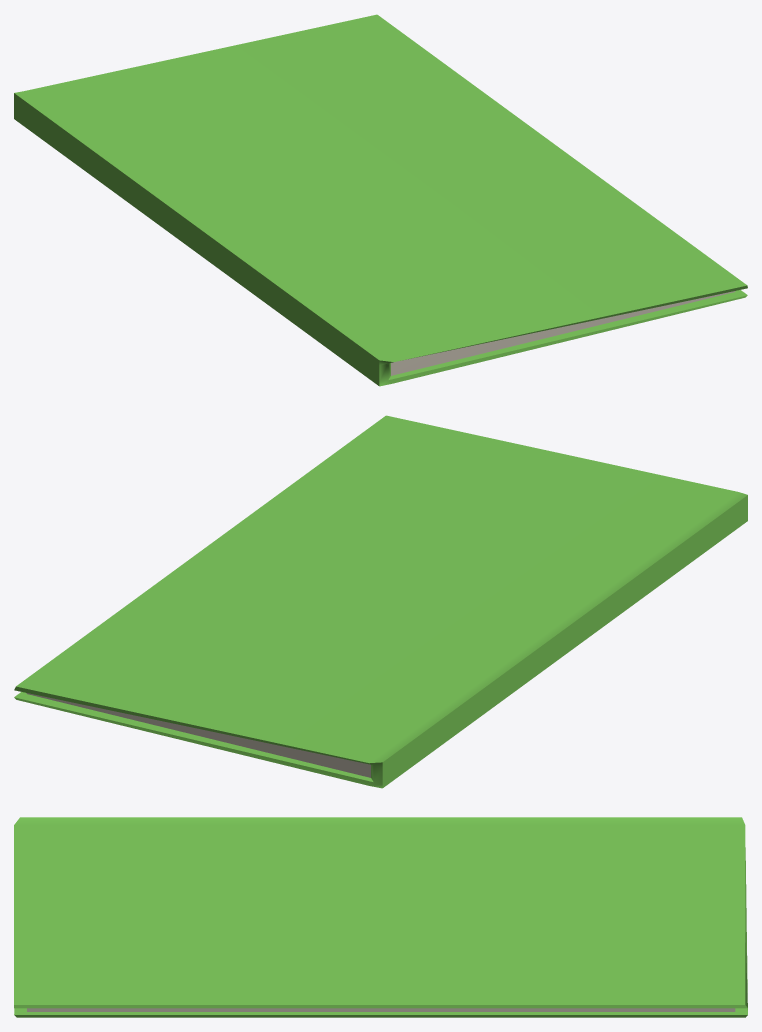
File: Book_4.fbx
3 renders of one model, top to bottom at view 1: azimuth 30°, elevation 25°; view 2: azimuth 150°, elevation 25°; view 3: azimuth 270°, elevation 25°, orthographic.
Visible parts, largest first — view 1: pCube4; view 2: pCube4; view 3: pCube4.
Part boxes in pixels (x1,y1,x2,y2): pCube4: (14,14,747,386); pCube4: (14,415,747,788); pCube4: (14,817,747,1017).
Bounding box in the file's own units: 0.9845 × 0.0671 × 1.73.
1 material, 1 textured.
